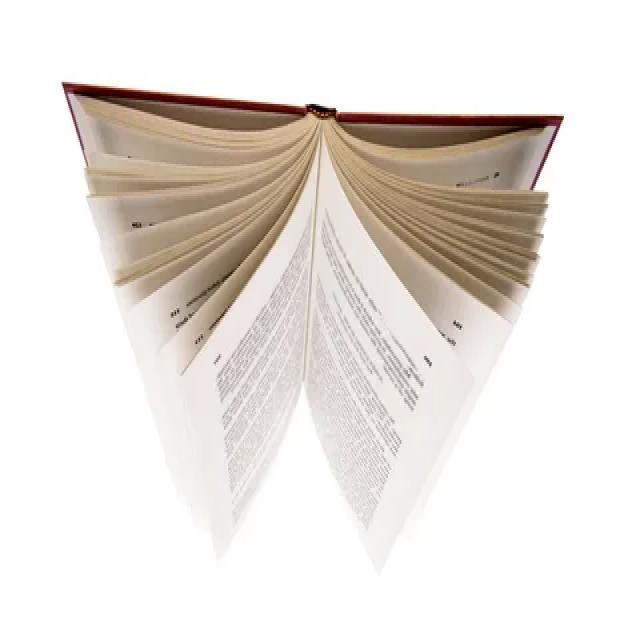book: (56, 41, 573, 589)
